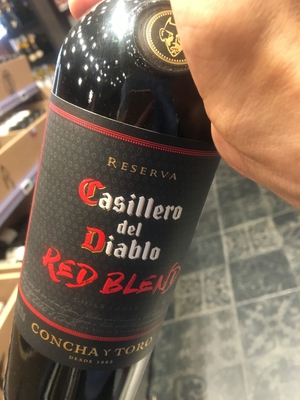casillero del diablo red blend: (6, 41, 223, 400)
